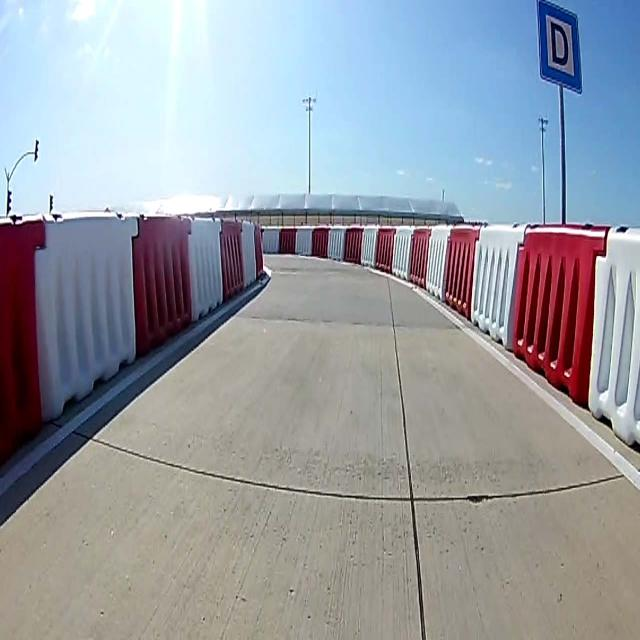durak: (537, 1, 583, 91)
